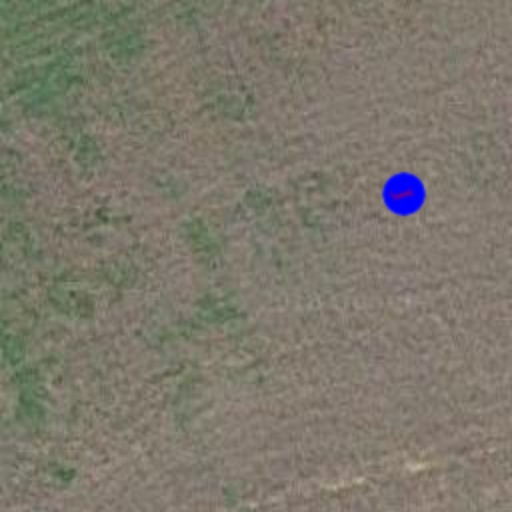circle: (374, 164, 434, 224)
